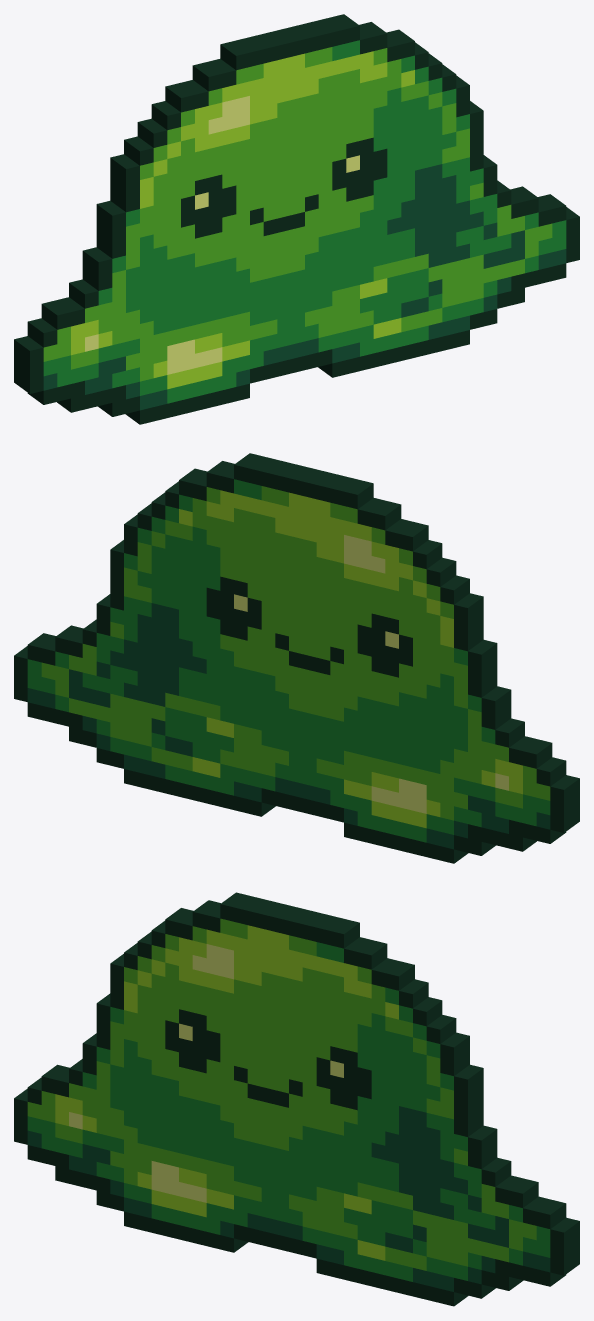
The model's file is Slime_Idle_01.obj.
3 renders of one model, top to bottom at view 1: azimuth 30°, elevation 25°; view 2: azimuth 150°, elevation 25°; view 3: azimuth 330°, elevation 25°, orthographic.
Bounding box in the file's own units: 4 × 2.4 × 0.2.
1 material, 1 textured.
